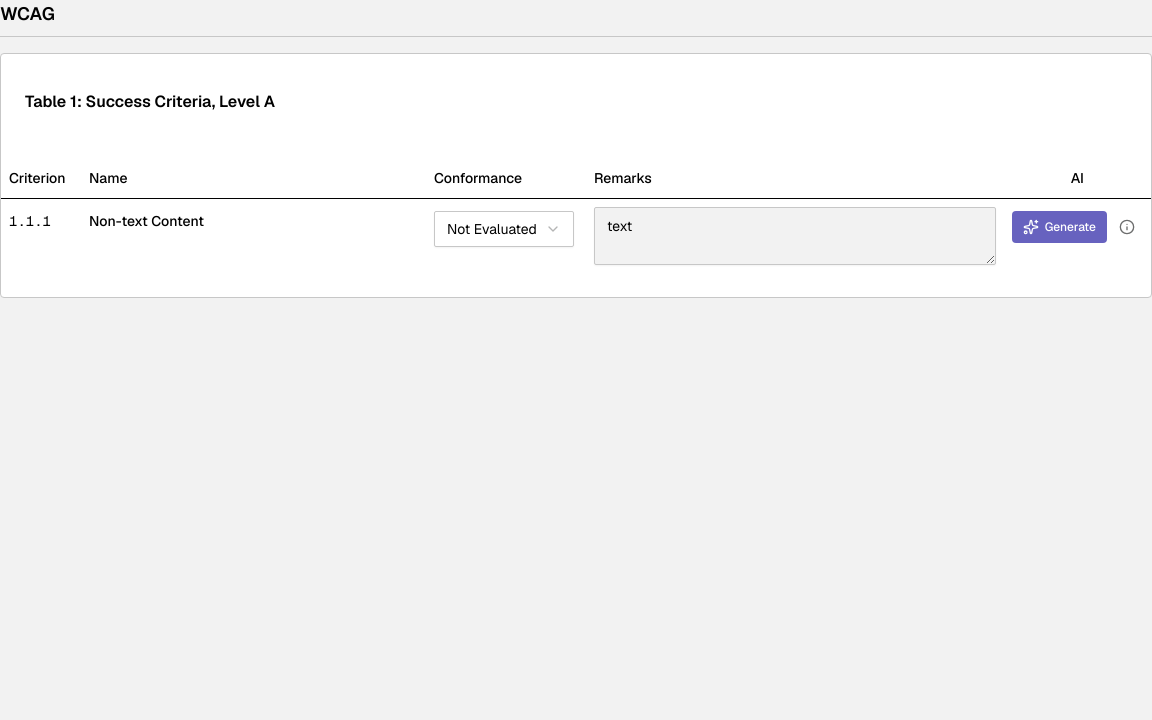
VpatCriteriaTable › shows reasoning in AI info modal when ai_reasoning is set
Step 1. Click the button named "ai info for 1.1.1" → [1127, 226], box 1111,210 -> 1143,242
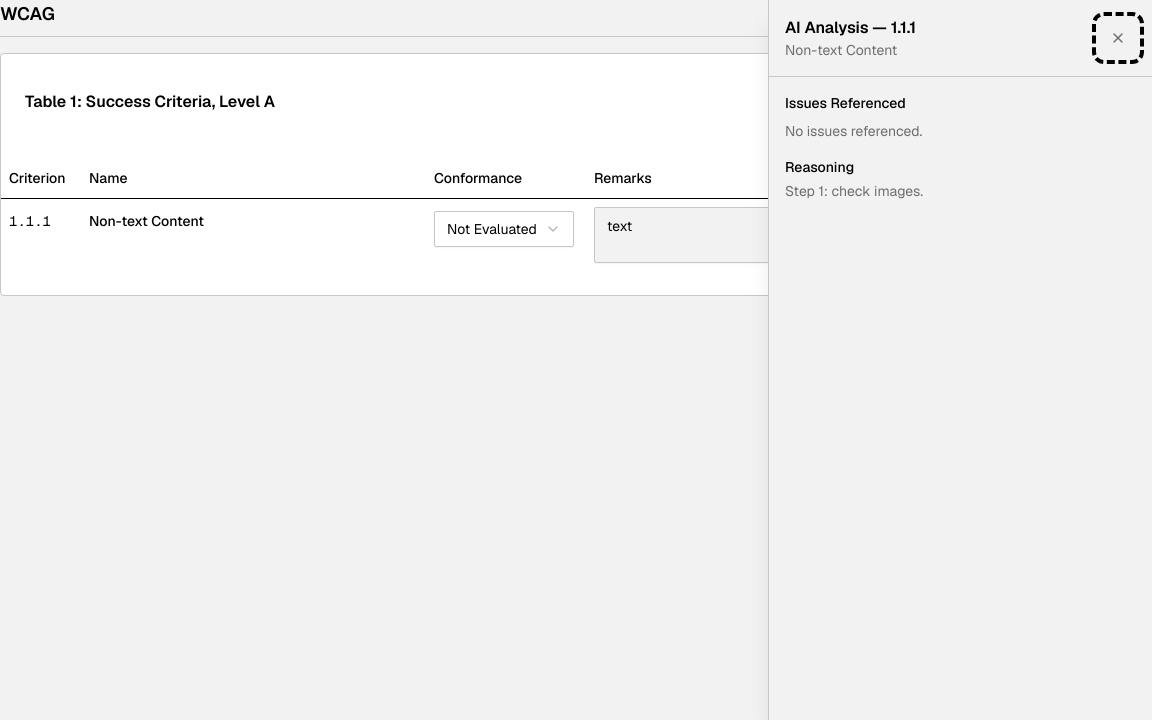
Expected: the text "Step 1: check images." is shown, 785,182 -> 923,200
